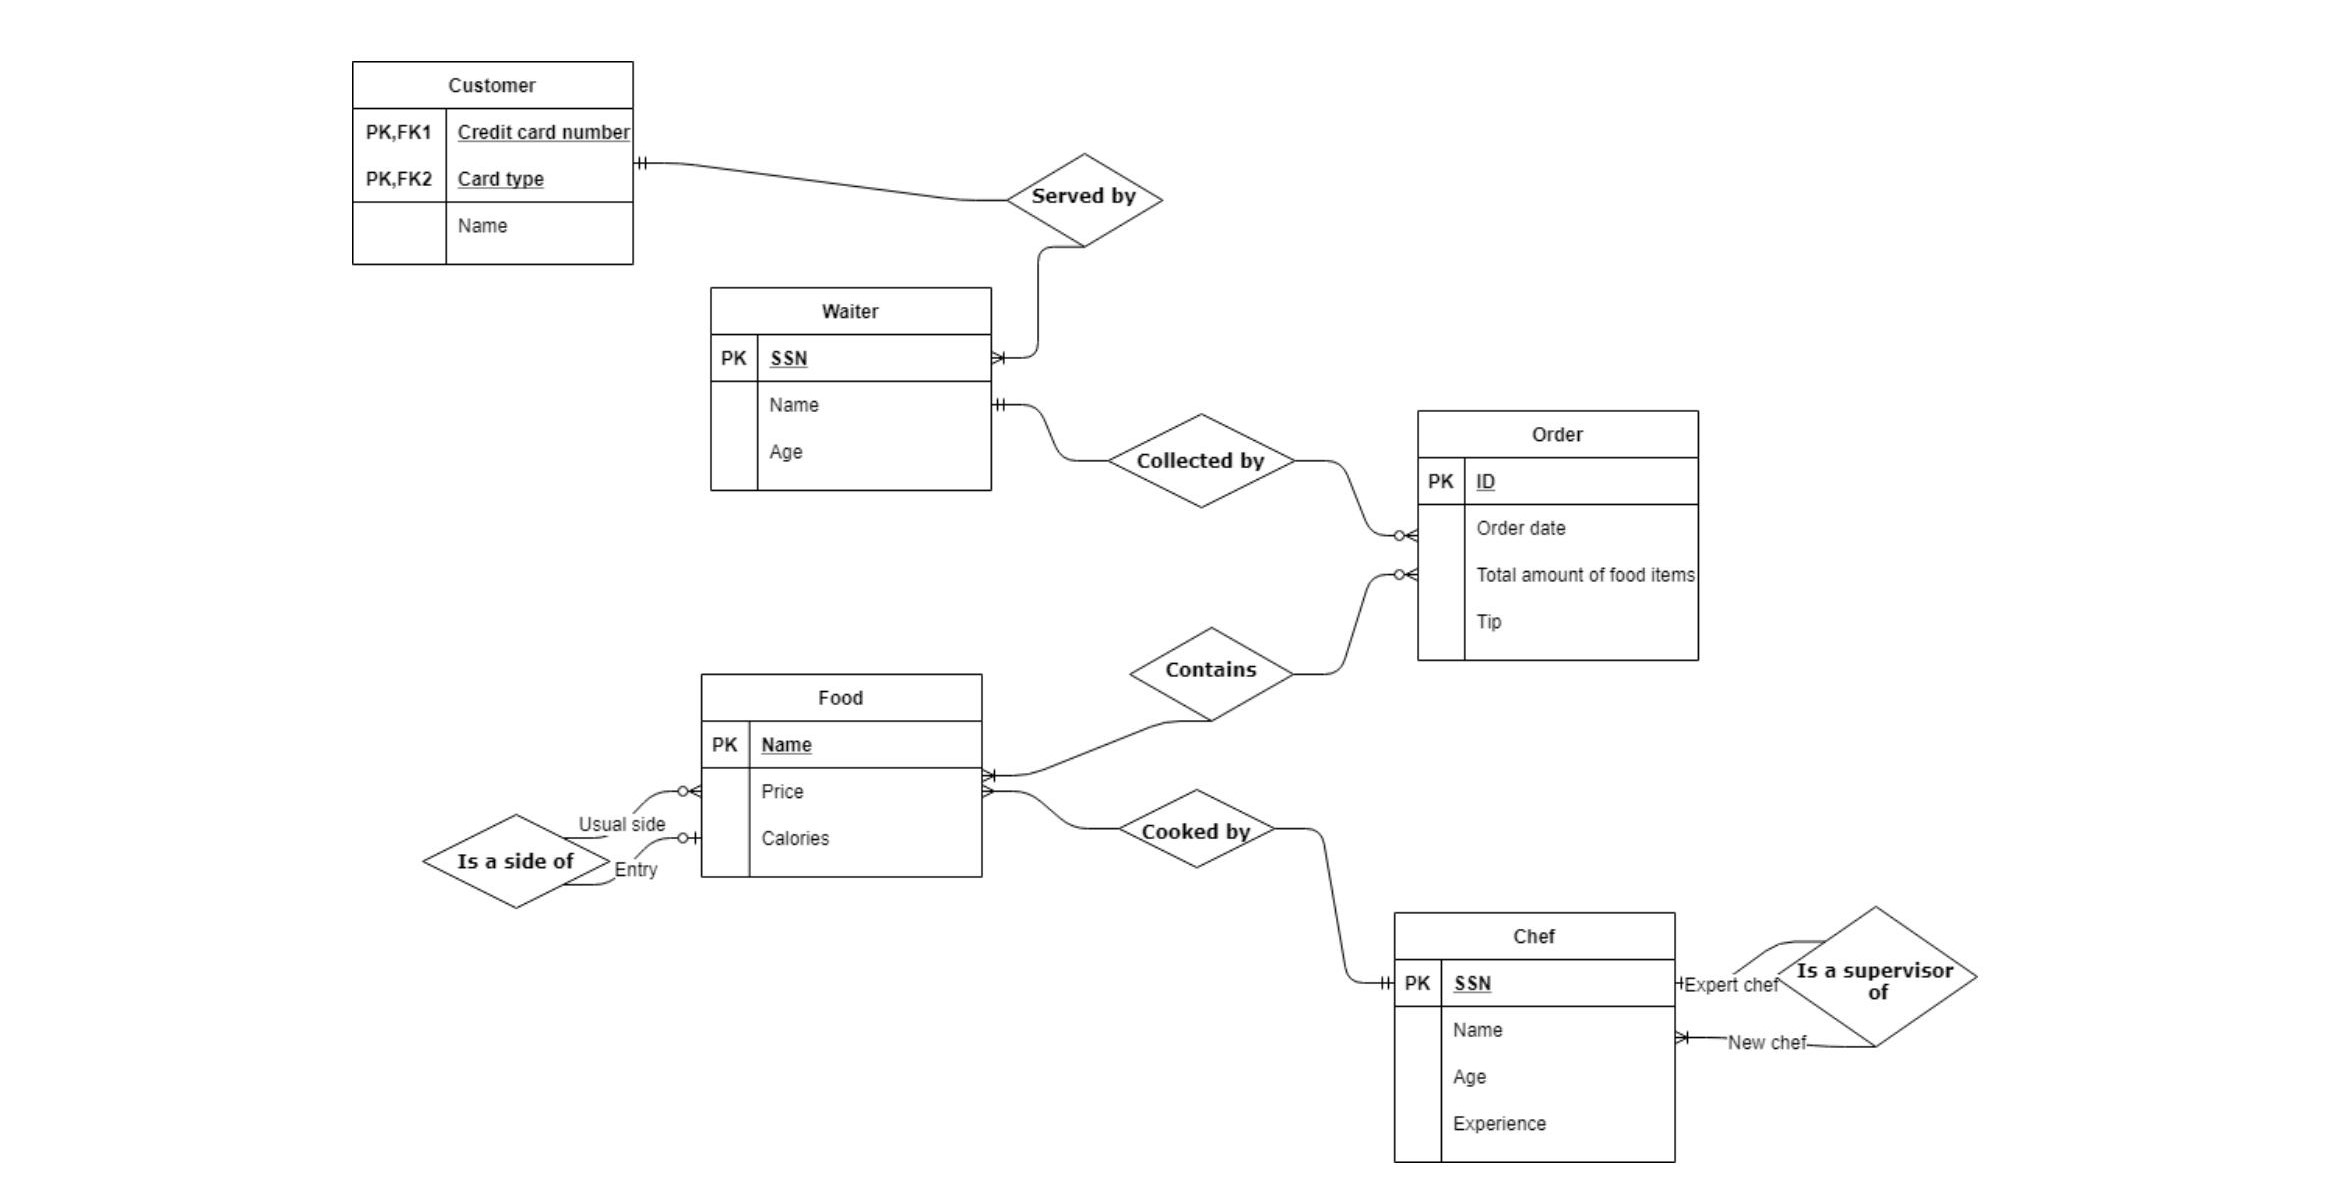Entity: (1407, 398, 1708, 666), (1388, 905, 1681, 1169), (342, 46, 636, 269), (696, 666, 989, 888), (705, 279, 990, 499)
Relationship: (1794, 912, 1976, 1038), (1093, 408, 1298, 511), (418, 808, 608, 915), (1129, 622, 1298, 723), (1007, 155, 1167, 249), (1123, 789, 1264, 872)
